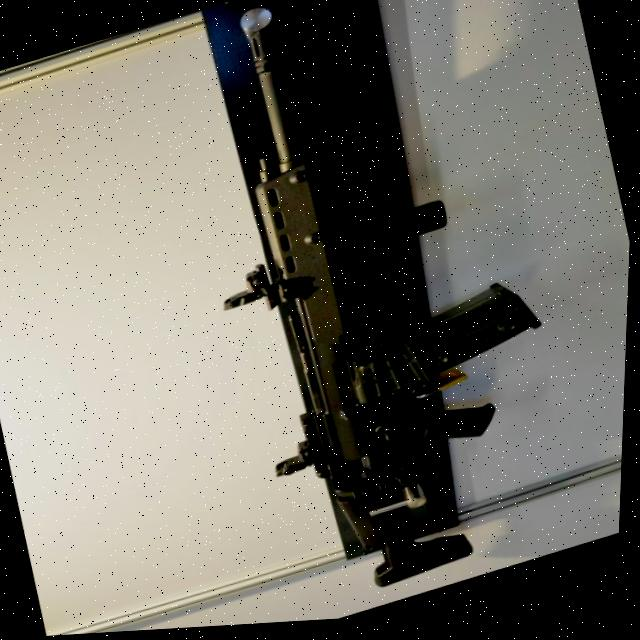firearm: (152, 0, 609, 626)
